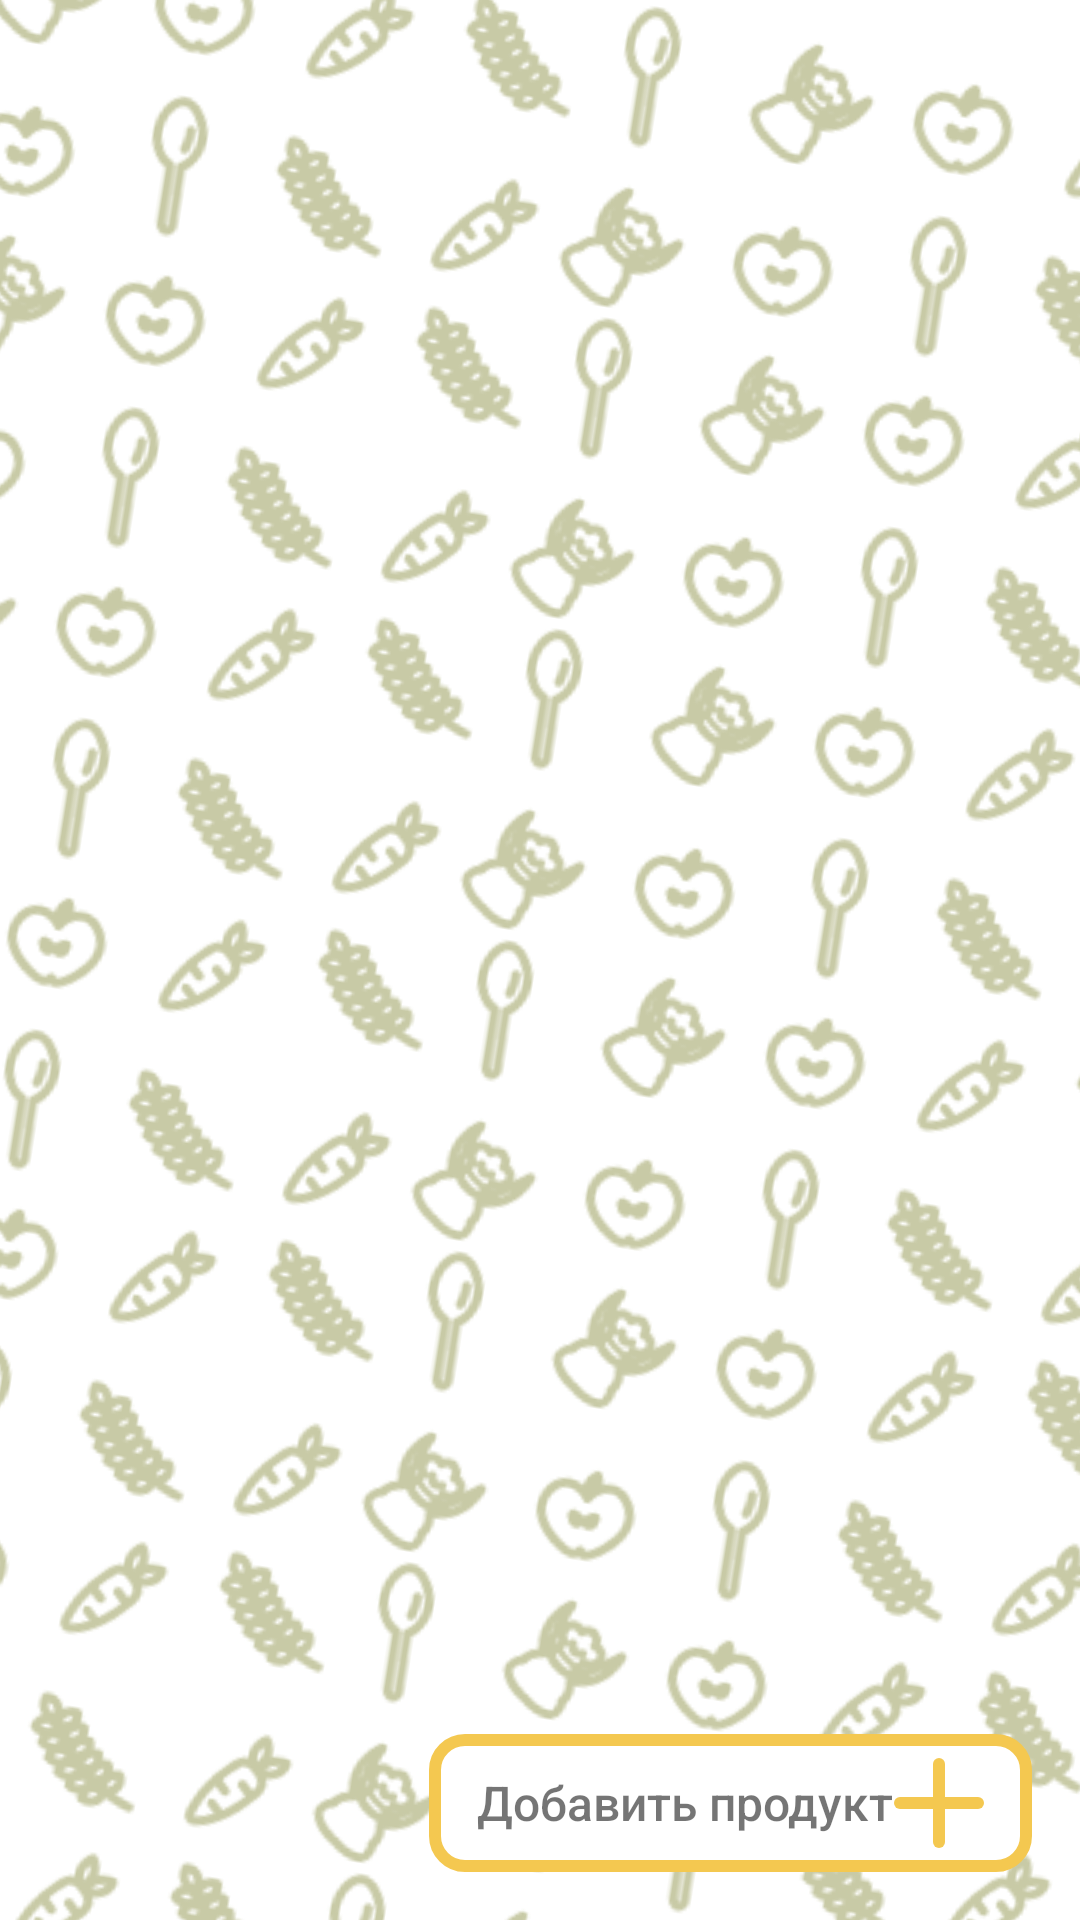

Icons on this 1080px x 1920px Android screen, each with its box as (x1,y1,x2,y2):
add: (894,1758,984,1848)
